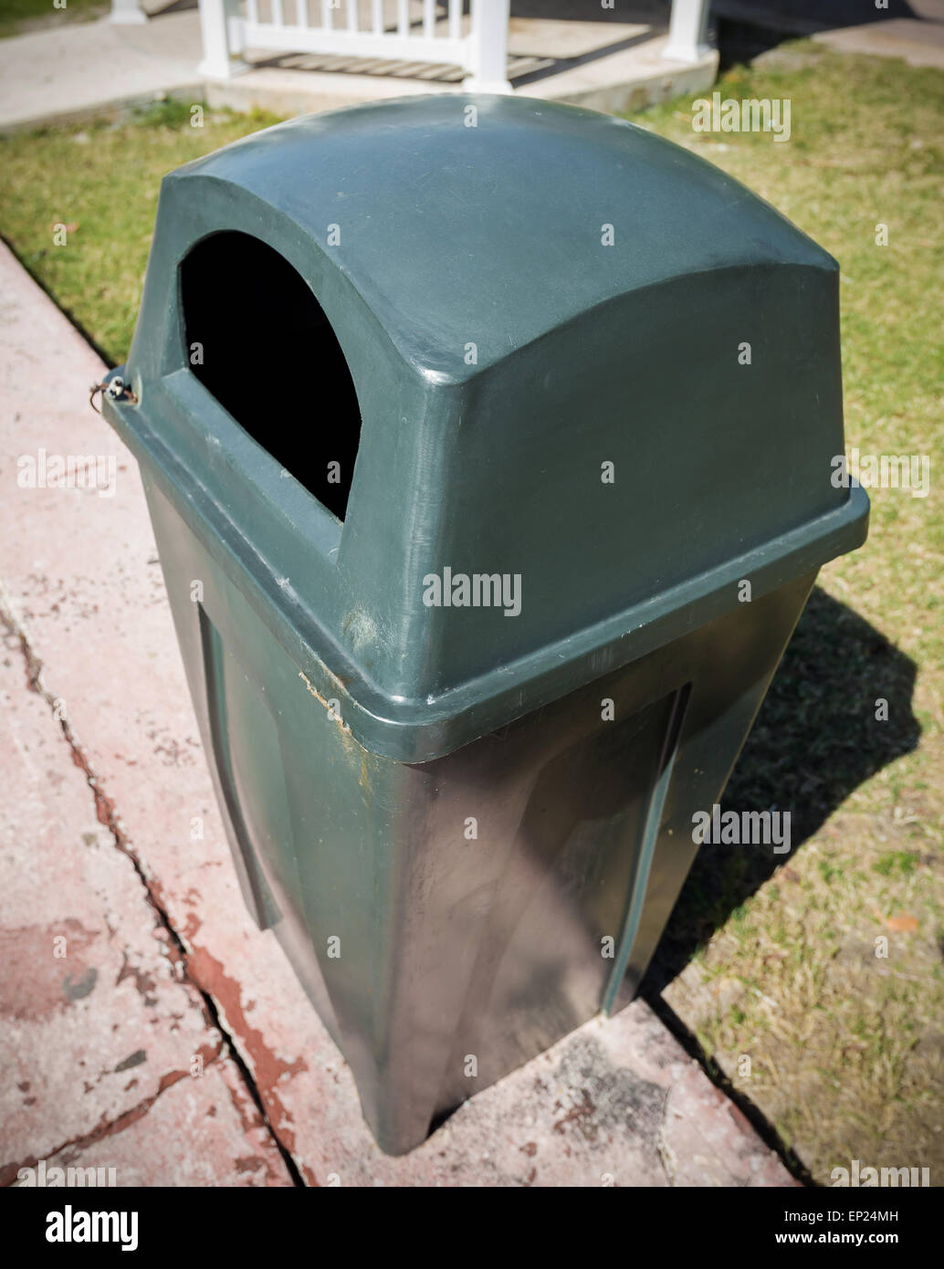empty: (91, 89, 884, 1145)
